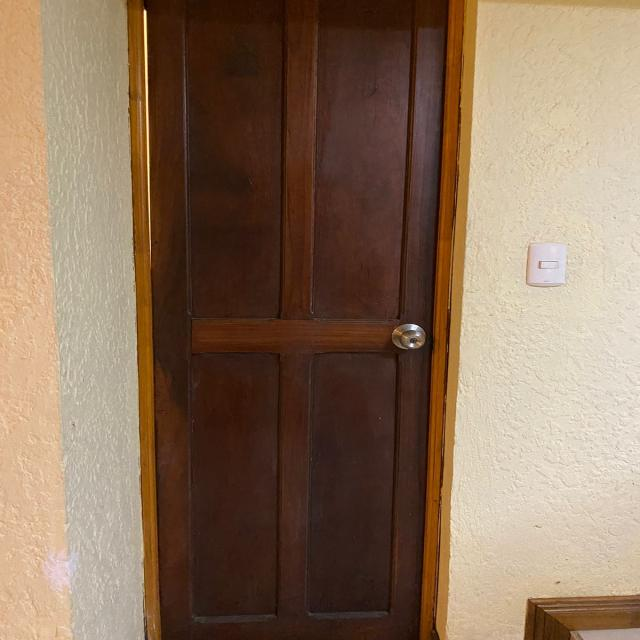ClosedDoor: (125, 0, 447, 640)
